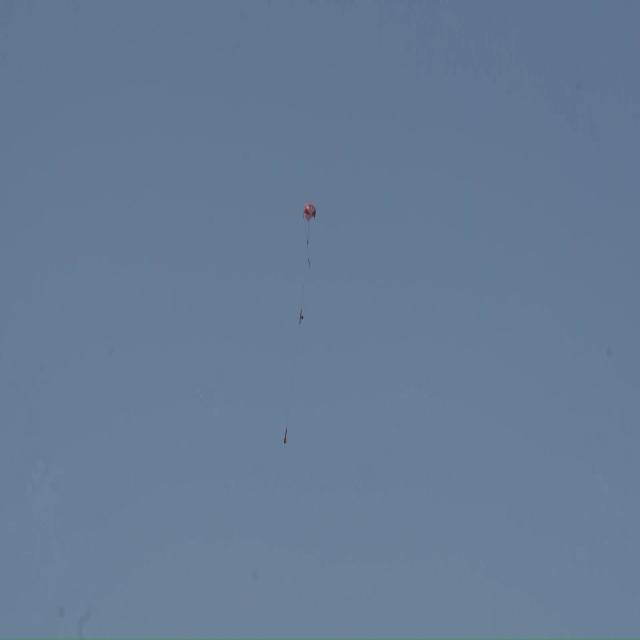Rocket: (283, 428, 288, 444)
